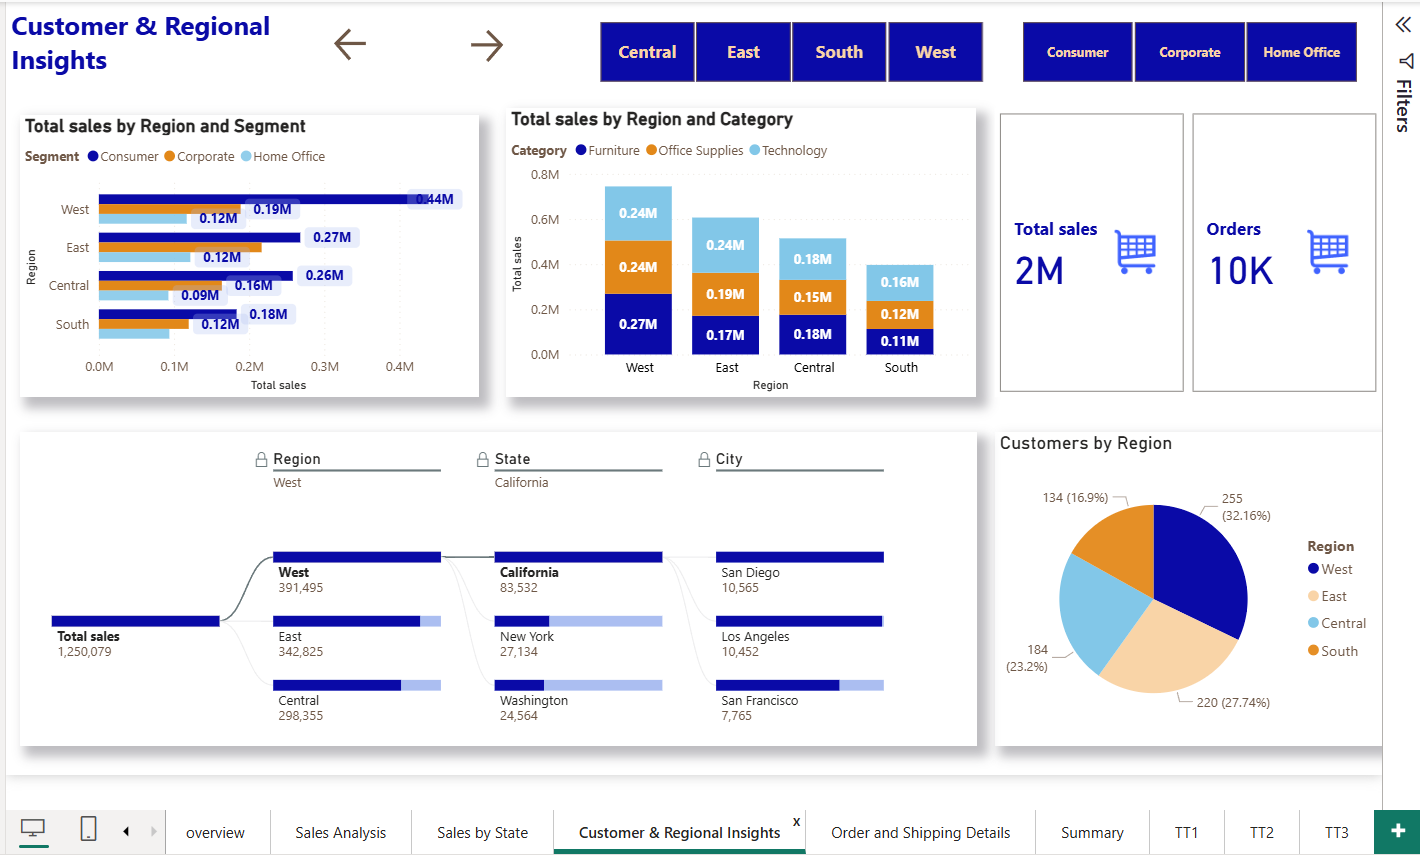

The dashboard page shown, as its layout file describes it:
{"tool":"powerbi","page":{"name":"Customer & Regional Insights","canvas":[1280,720],"ordinal":3},"visuals":[{"type":"slicer","title":"Region","fields":{"Values":["Dim_Region.Region"]},"box":[527.3,12.1,405.9,69.4],"z":0},{"type":"slicer","title":"Segment","fields":{"Values":["Dim_Customer.Segment"]},"box":[919.2,12.1,360.8,69.4],"z":1000},{"type":"actionButton","box":[300.9,19.8,101.7,39.6],"z":2000},{"type":"actionButton","box":[426.7,20.8,100.6,39.9],"z":3000},{"type":"textbox","box":[0,0,257.1,81.9],"z":4000},{"type":"pieChart","fields":{"Y":["DAX measures.Customers"],"Category":["Dim_Region.Region"]},"box":[919.3,400.5,360.7,292],"z":5000},{"type":"clusteredBarChart","fields":{"Category":["Dim_Region.Region"],"Series":["Dim_Customer.Segment"],"Y":["DAX measures.Total sales"]},"box":[13.3,105,427.1,263],"z":6000},{"type":"lineStackedColumnComboChart","fields":{"Category":["Dim_Region.Region"],"Y":["DAX measures.Total sales"],"Series":["Dim_Product.Category"]},"box":[465.7,98.9,437.9,269],"z":7000},{"type":"cardVisual","fields":{"Data":["DAX measures.Total sales","DAX measures.Orders"]},"box":[919.3,98.9,360.7,269],"z":8000},{"type":"decompositionTreeVisual","fields":{"Analyze":["DAX measures.Total sales"],"ExplainBy":["Dim_Region.Region","Dim_country.State","Dim_country.City"]},"box":[13.3,400.5,890.4,292],"z":9000}]}

Visuals, with their boxes on the page's 1280x720 design canvas (x1, y1, x2, y2). These are canvas units, not pixel positions in the 1420x855 screenshot, which may show the page scaled, cropped or inside an application window:
"Region" slicer: 527,12,933,82
"Segment" slicer: 919,12,1280,82
actionButton: 301,20,403,59
actionButton: 427,21,527,61
textbox: 0,0,257,82
pieChart - DAX measures.Customers x Dim_Region.Region: 919,400,1280,692
clusteredBarChart - Dim_Region.Region x Dim_Customer.Segment: 13,105,440,368
lineStackedColumnComboChart - Dim_Region.Region x DAX measures.Total sales: 466,99,904,368
cardVisual - DAX measures.Total sales x DAX measures.Orders: 919,99,1280,368
decompositionTreeVisual - DAX measures.Total sales x Dim_Region.Region: 13,400,904,692
